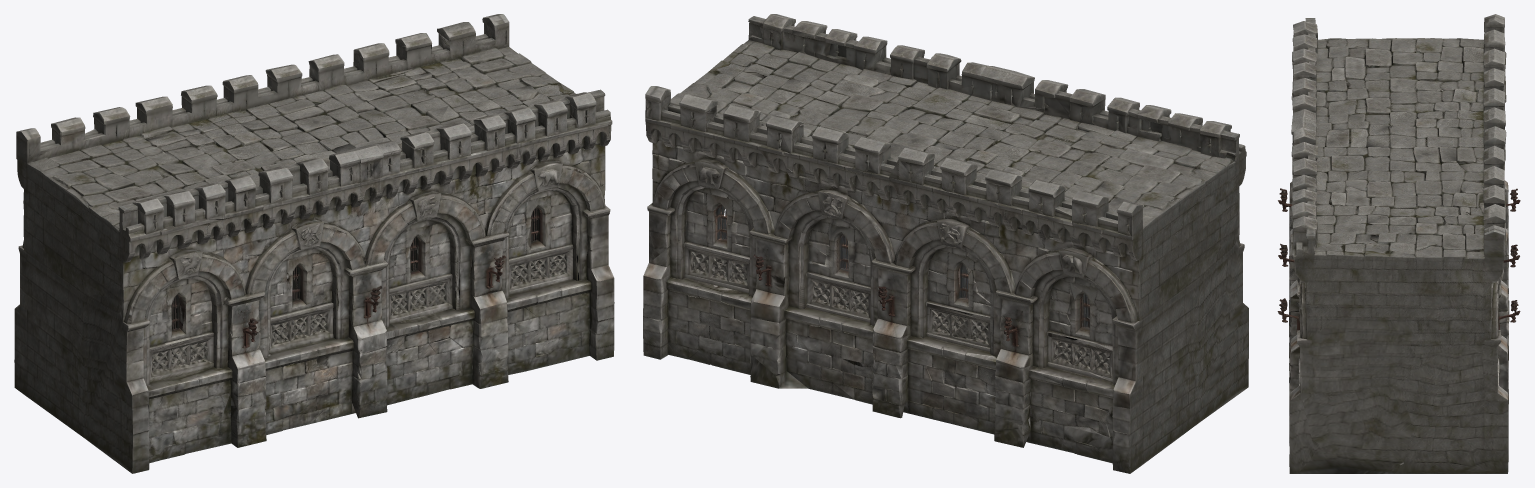
The model's file is fort_m_citadel_wall.glb.
The picture shows the model from 3 angles, left to right: view 1: azimuth 30°, elevation 25°; view 2: azimuth 150°, elevation 25°; view 3: azimuth 270°, elevation 25°; orthographic projection. The views are drawn at different scales.
Parts seen in each view (by area): view 1: fort_m_citadel_wall; view 2: fort_m_citadel_wall; view 3: fort_m_citadel_wall.
Part boxes in pixels (left/top/right/bottom): fort_m_citadel_wall: left=14, top=14, right=614, bottom=473; fort_m_citadel_wall: left=643, top=14, right=1248, bottom=473; fort_m_citadel_wall: left=1277, top=14, right=1520, bottom=473.
Size of the model in its own units: 1.9 by 0.987 by 0.8938.
Materials: 1 (1 with a texture image).
